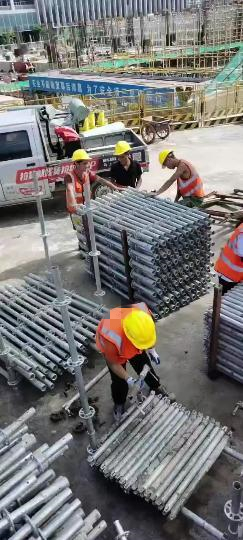helmet: (123, 314, 159, 348), (72, 148, 91, 163), (111, 141, 130, 155), (158, 148, 171, 167)
person: (93, 304, 164, 395), (154, 146, 205, 212), (61, 147, 100, 233), (213, 217, 243, 306), (105, 140, 146, 196), (55, 118, 84, 154)
scaffold: (69, 190, 213, 316), (1, 402, 123, 540), (81, 402, 234, 510), (1, 269, 114, 387), (195, 279, 243, 383)
vest: (100, 308, 140, 362), (214, 228, 243, 281), (177, 158, 206, 206), (64, 171, 91, 217), (57, 128, 79, 141)
